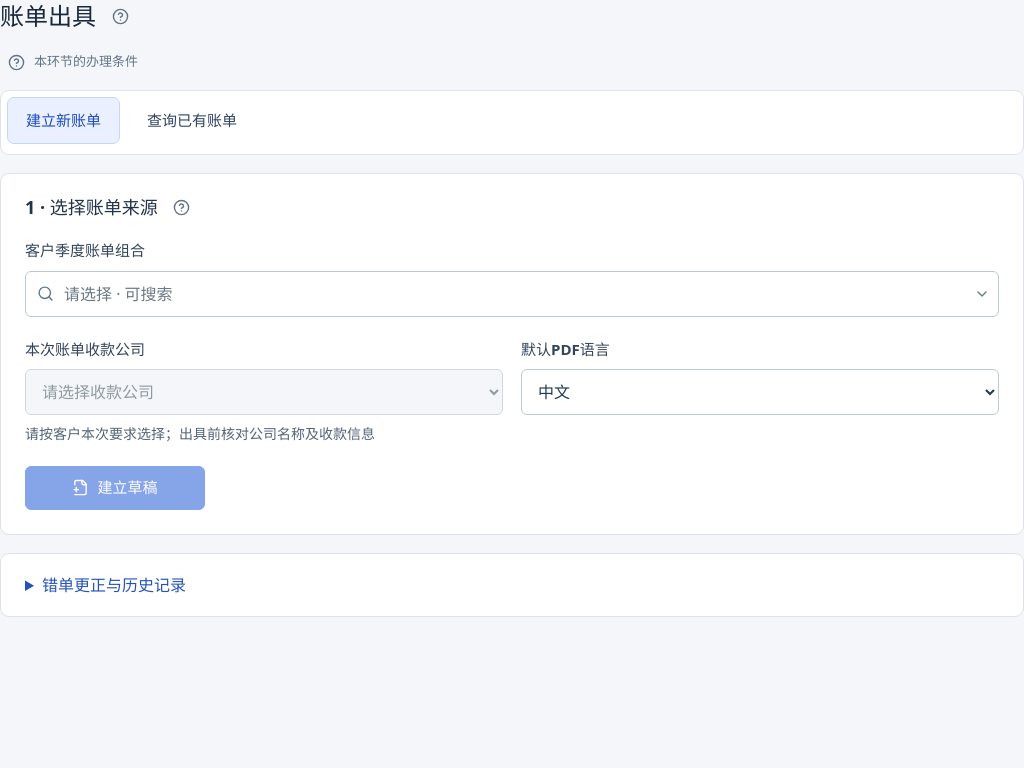
同客户两计划只出现一个缴费单候选，总额准确且提示未纳入账户
Focus the dropdown named "客户季度账单组合" at (512, 294), box [25,270,999,316]
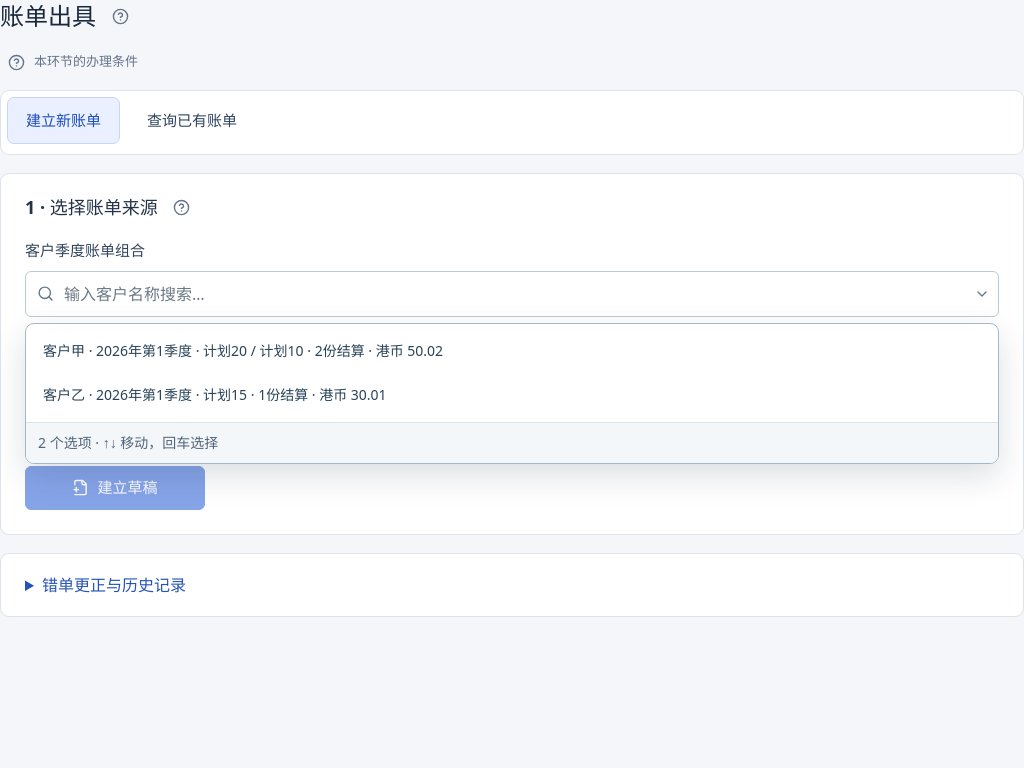
Expected: the option "客户甲 · 2026年第1季度 · 计划20 / 计划10 · 2份结算 · 港币 50.02" is shown
Click the option "客户甲 · 2026年第1季度 · 计划20 / 计划10 · 2份结算 · 港币 50.02" at (243, 350), box [43,341,443,360]
(page scrolled)
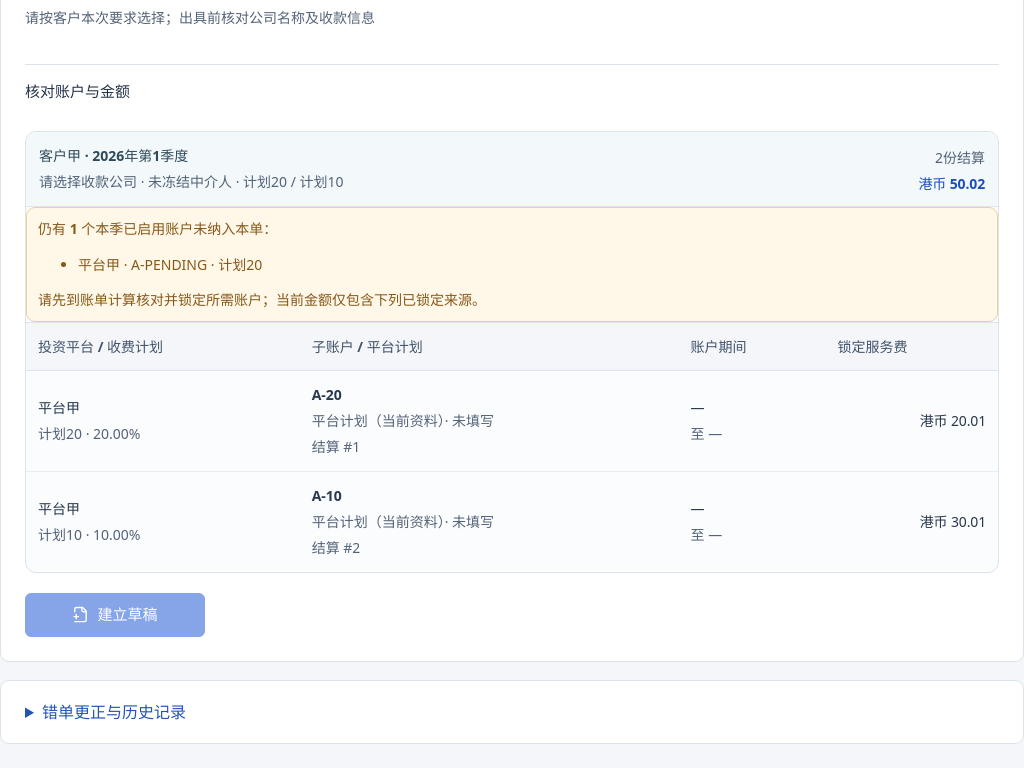
Expected: the list item "平台甲 · A-PENDING · 计划20" is shown, [78,254,262,274]
Expected: the text "A-20" is shown, [312,385,342,404]
Expected: the text "A-10" is shown, [312,486,342,505]
